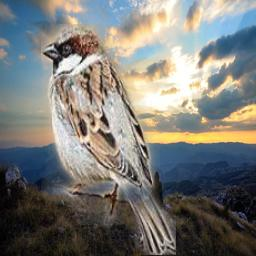Sparrow: (41, 24, 176, 255)
